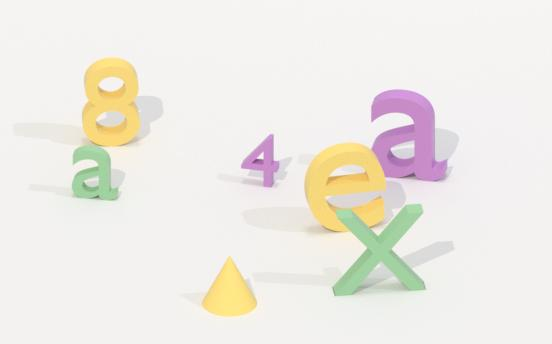4: (240, 129, 282, 191)
8: (80, 56, 141, 148)
a: (369, 85, 451, 187), (67, 144, 121, 205)
e: (303, 140, 387, 232)
non: (200, 252, 261, 317)
x: (331, 202, 431, 301)
